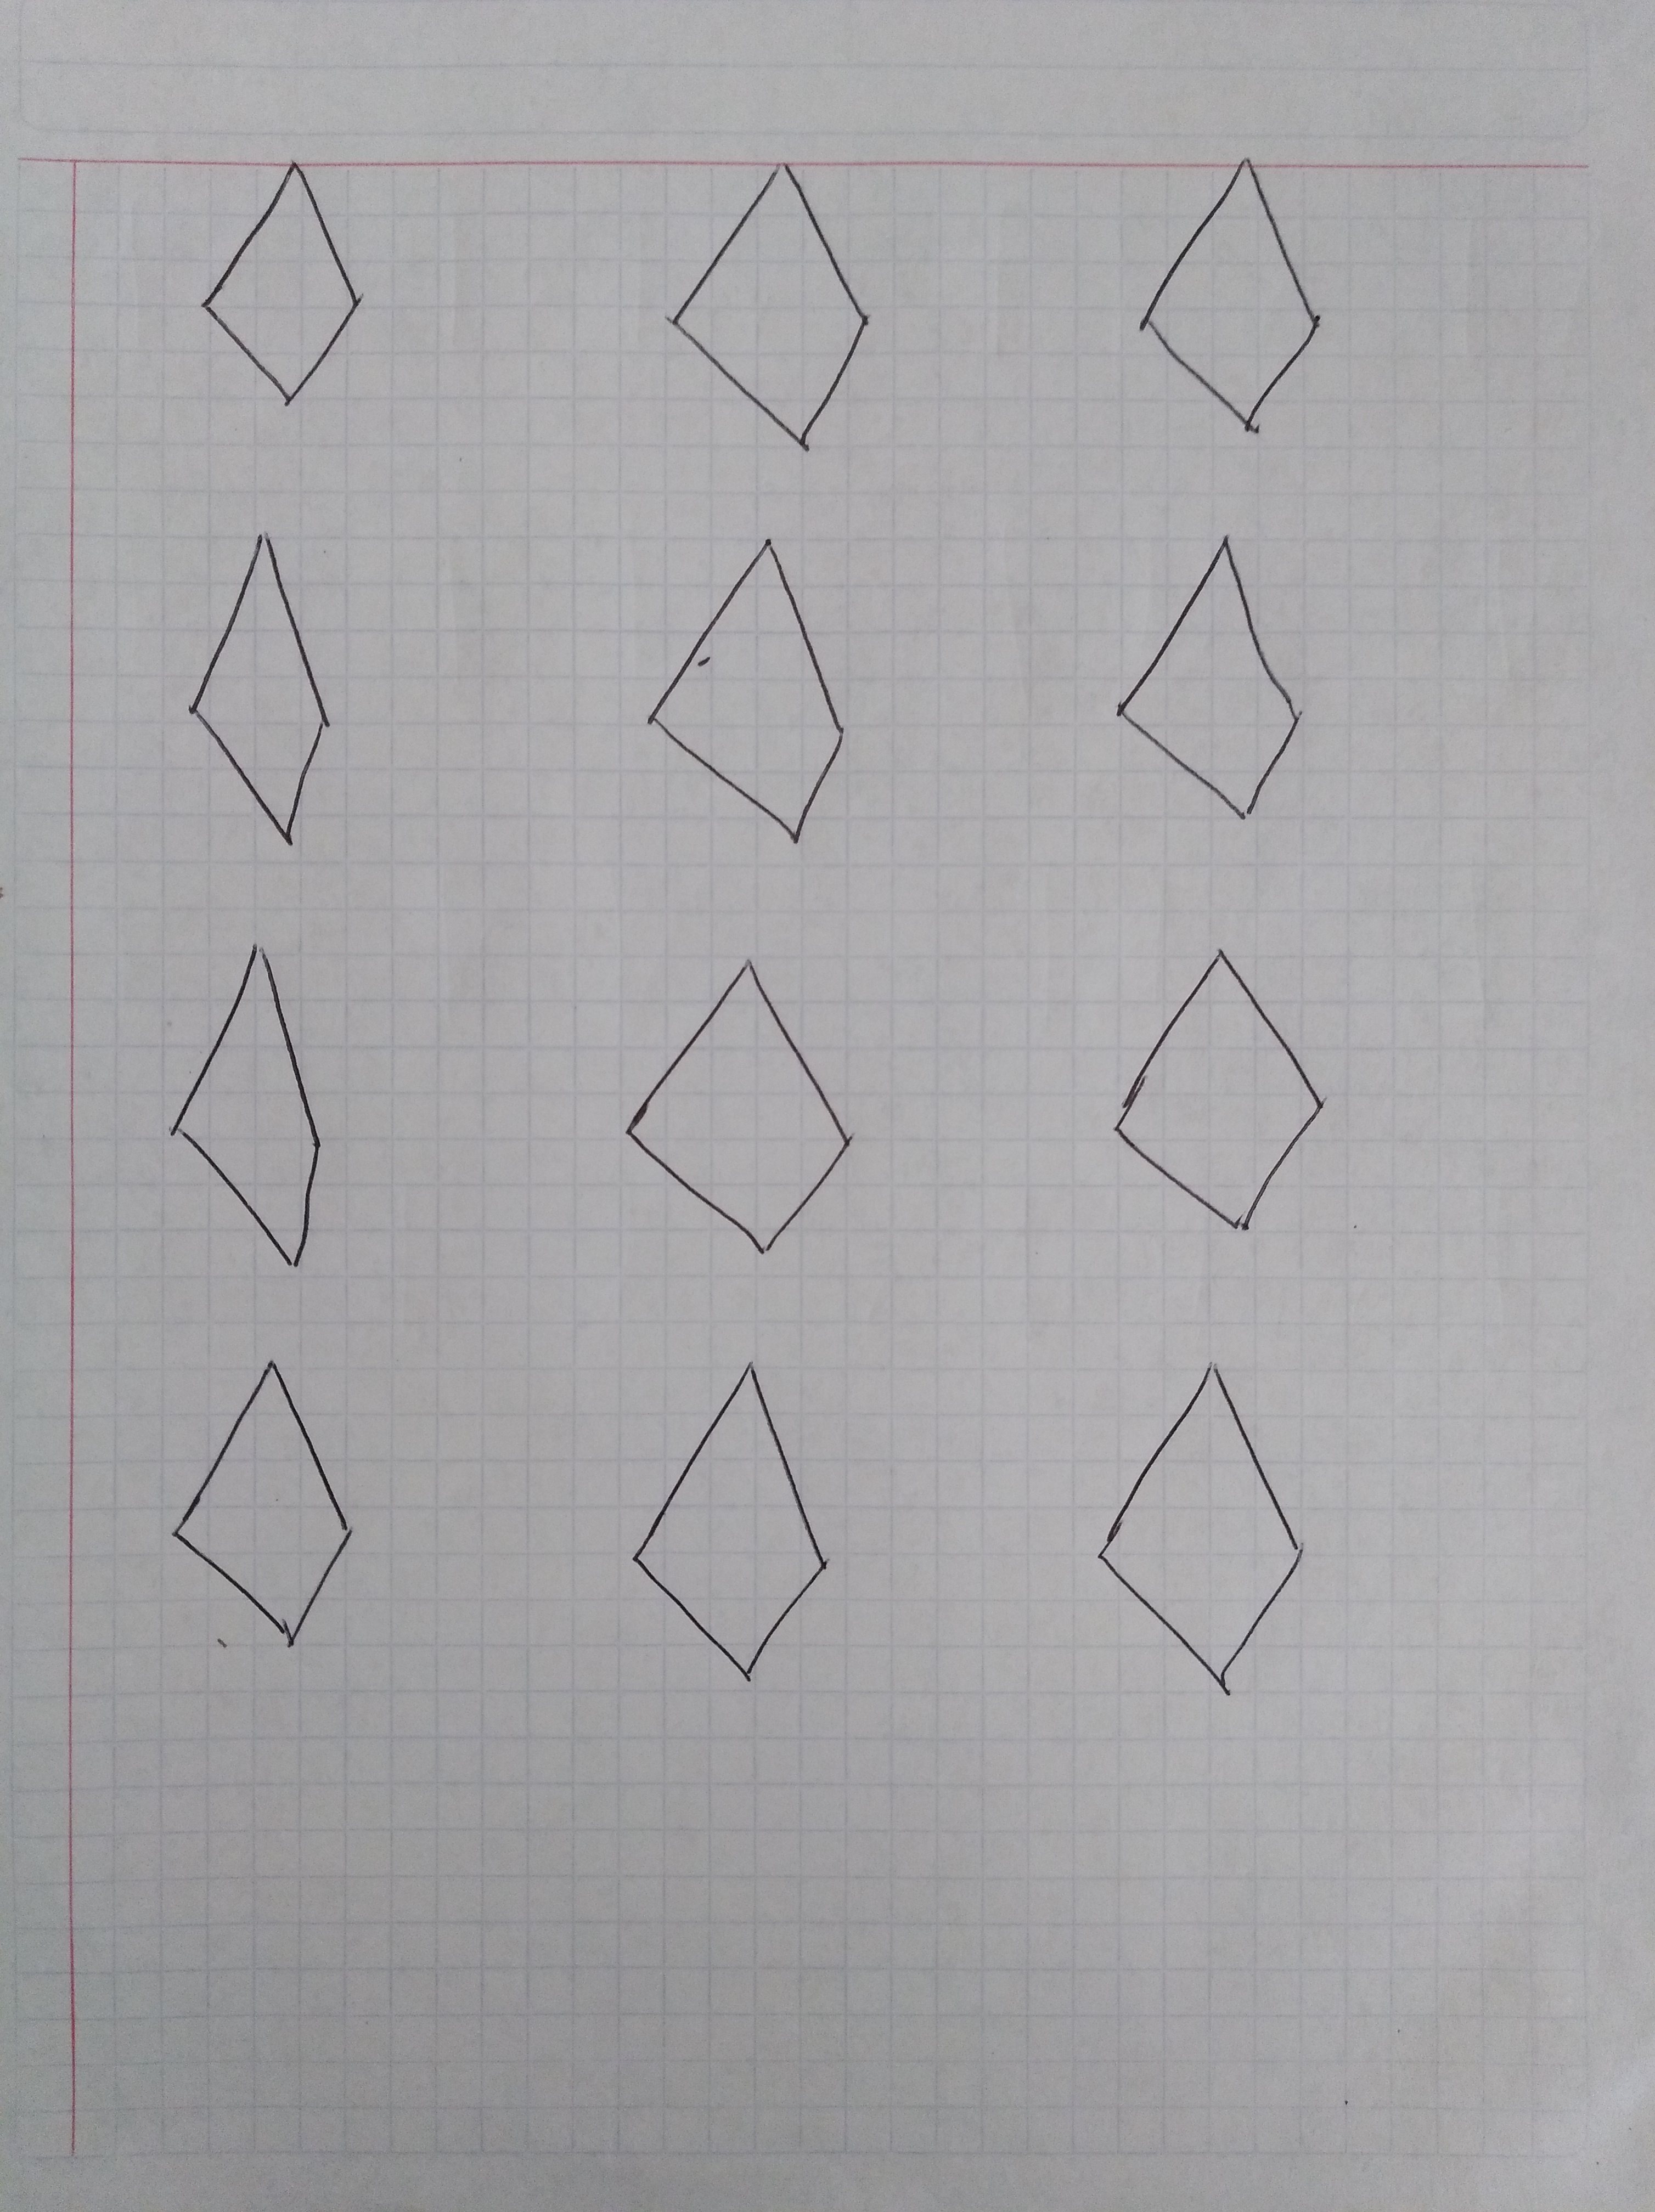decision: (125, 921, 422, 1305), (1064, 1341, 1358, 1725), (610, 506, 918, 871), (120, 1334, 443, 1668), (593, 933, 906, 1275), (605, 1329, 883, 1713), (629, 137, 935, 473), (1078, 924, 1380, 1255), (1093, 511, 1353, 841), (1102, 132, 1358, 462), (141, 514, 377, 871), (179, 137, 398, 440)
